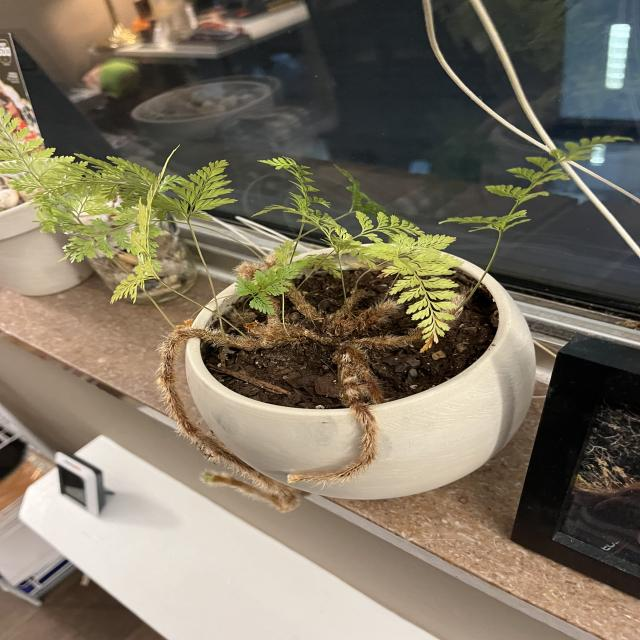Fern1: (1, 91, 640, 518)
